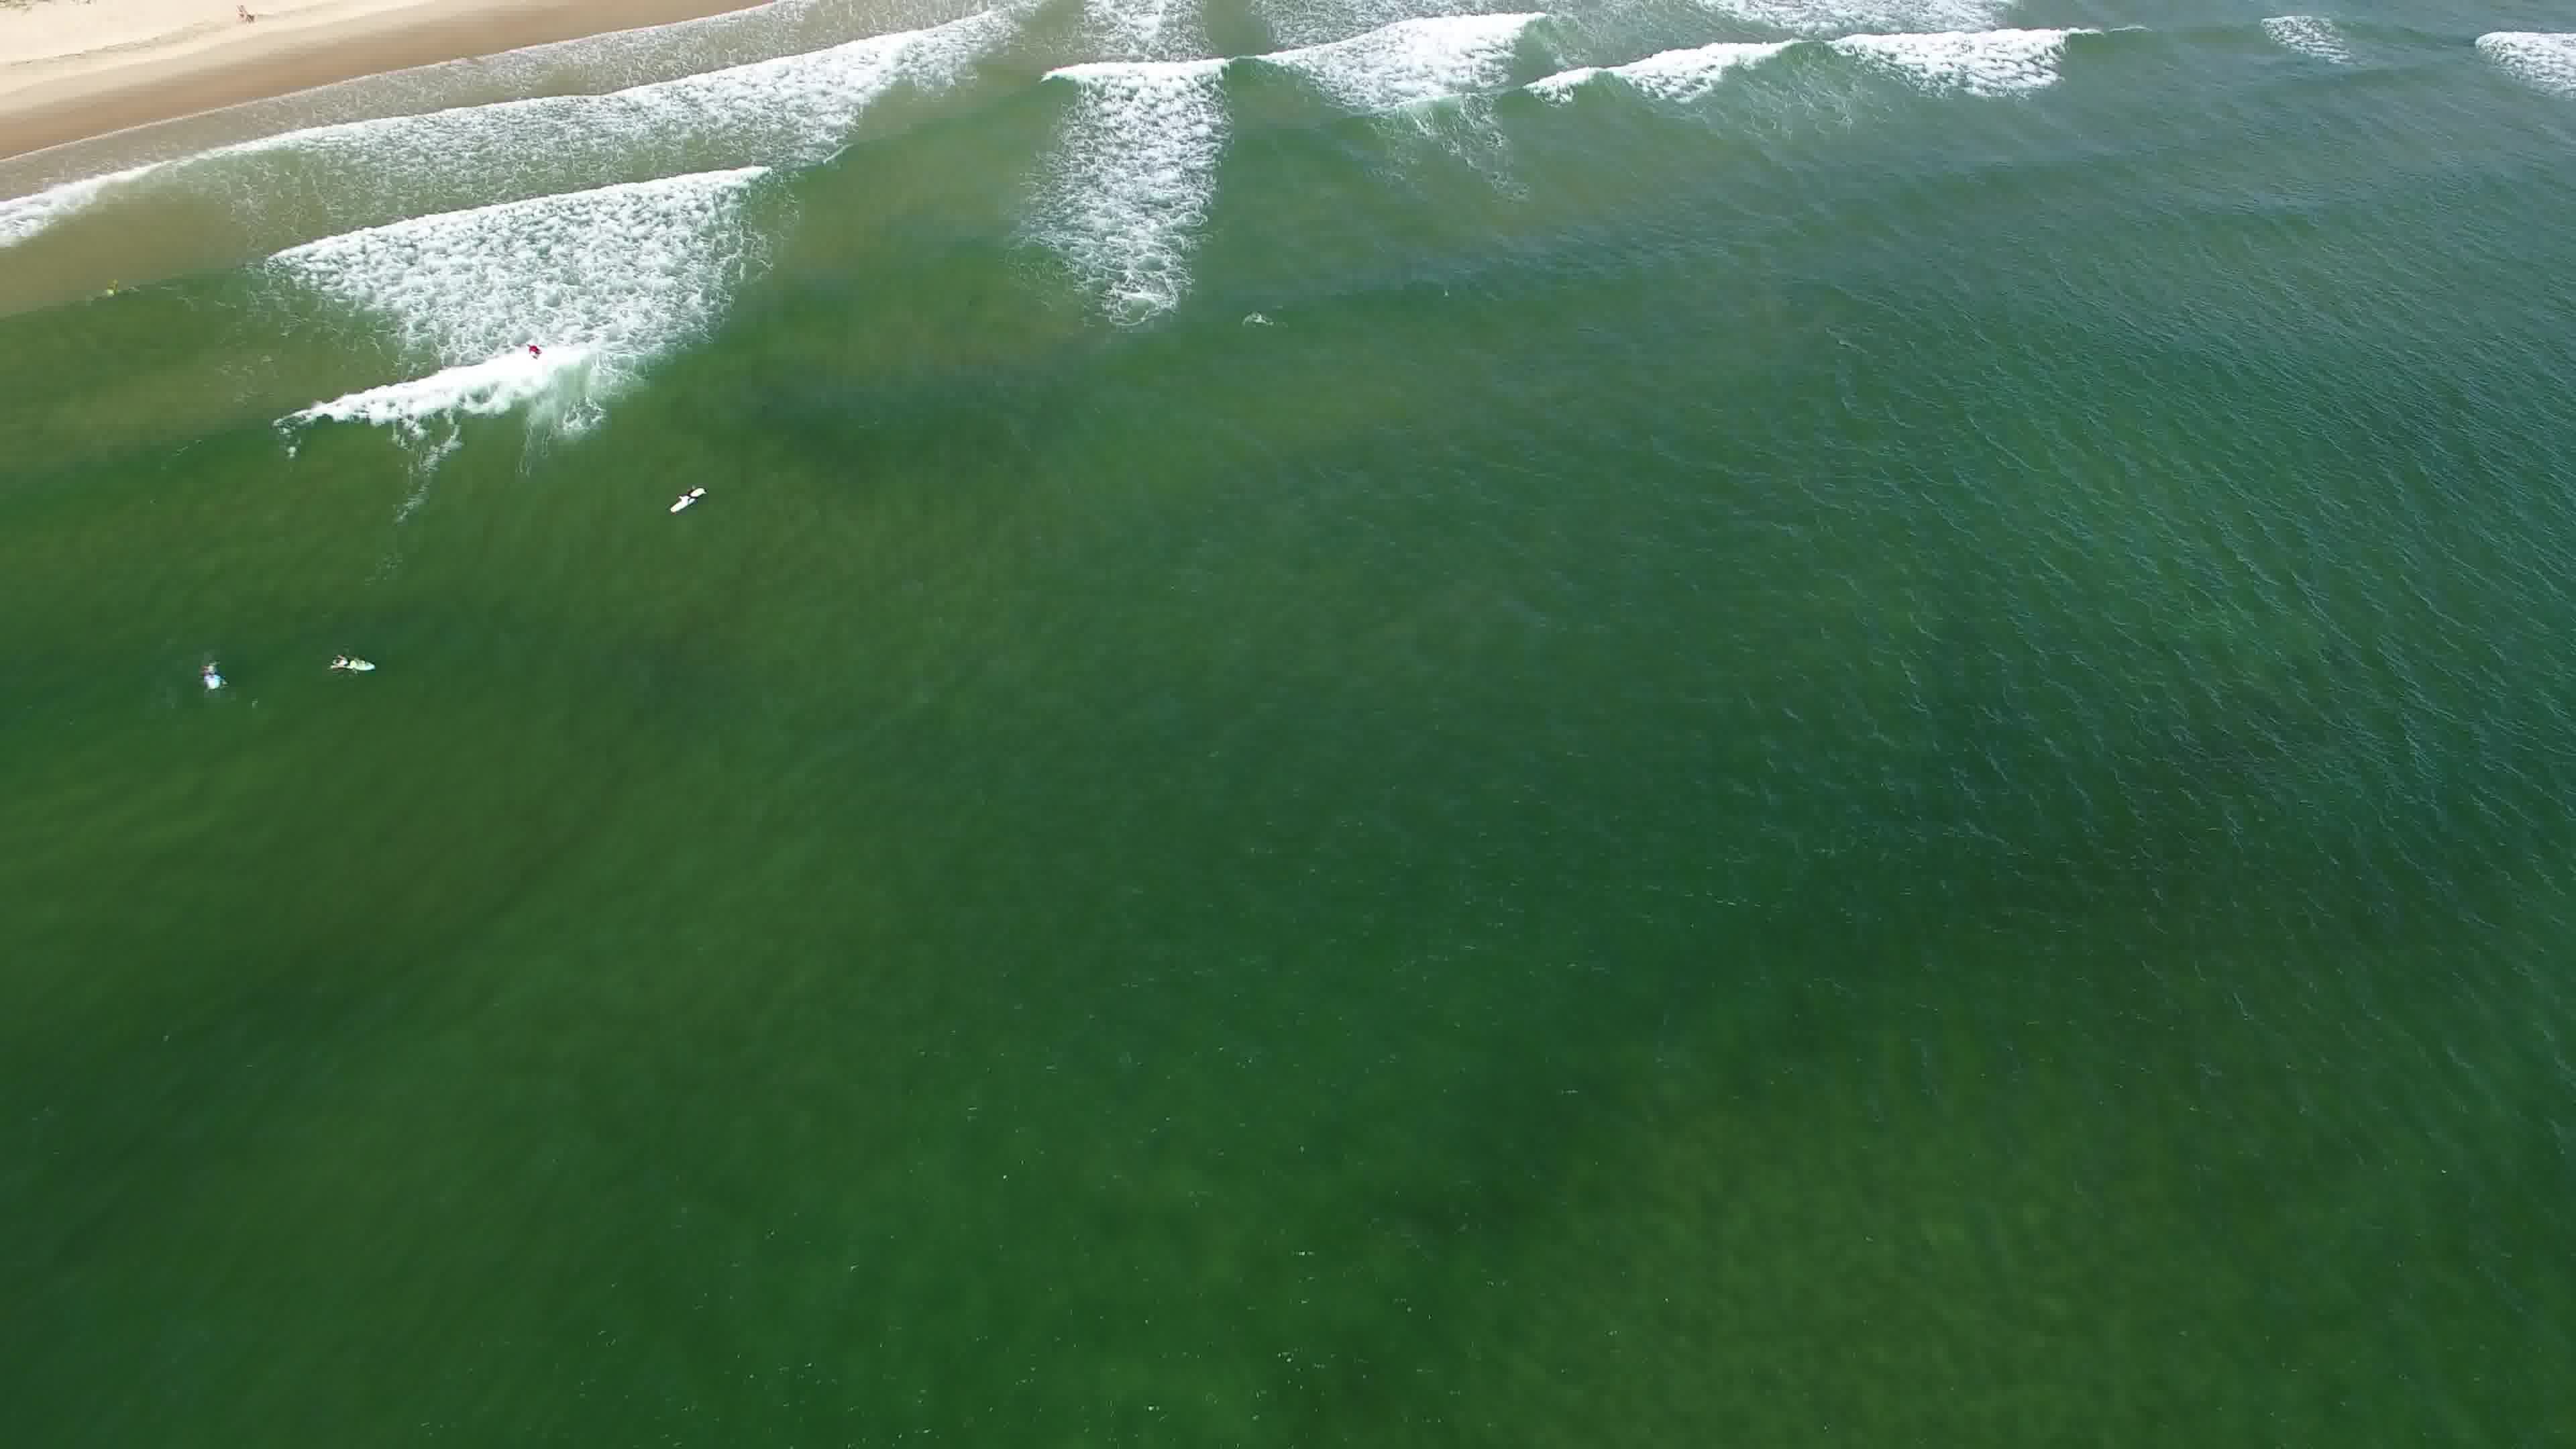surfer: (658, 472, 717, 524), (186, 644, 241, 697), (322, 644, 391, 683), (518, 338, 561, 377)
